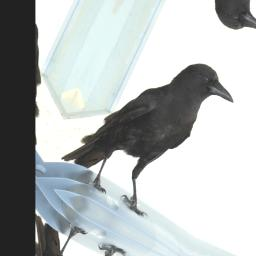Crow: (56, 19, 244, 236)
